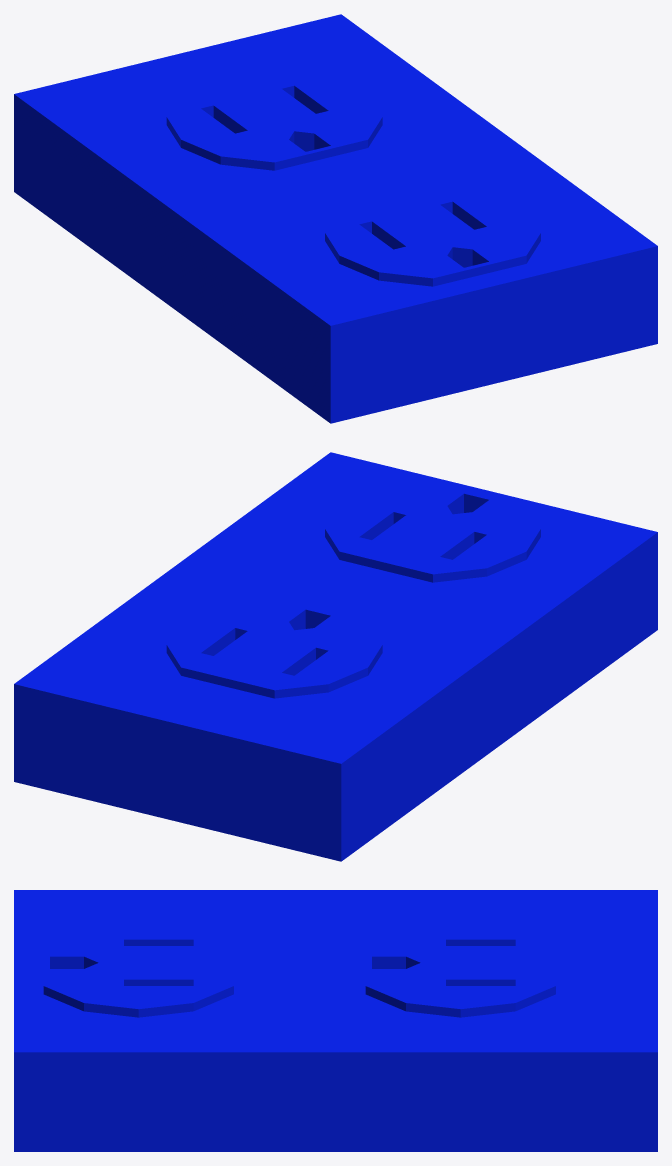
The model's file is Stock.FBX.
3 renders of one model, top to bottom at view 1: azimuth 30°, elevation 25°; view 2: azimuth 150°, elevation 25°; view 3: azimuth 270°, elevation 25°, orthographic.
Parts seen in each view (by area): view 1: SM_stock; view 2: SM_stock; view 3: SM_stock.
Boxes of the visible parts, left/top/right/bottom form: SM_stock: left=14, top=14, right=657, bottom=423; SM_stock: left=14, top=452, right=657, bottom=861; SM_stock: left=14, top=890, right=657, bottom=1151.
Bounding box in the file's own units: 7 × 2.17 × 11.73.
